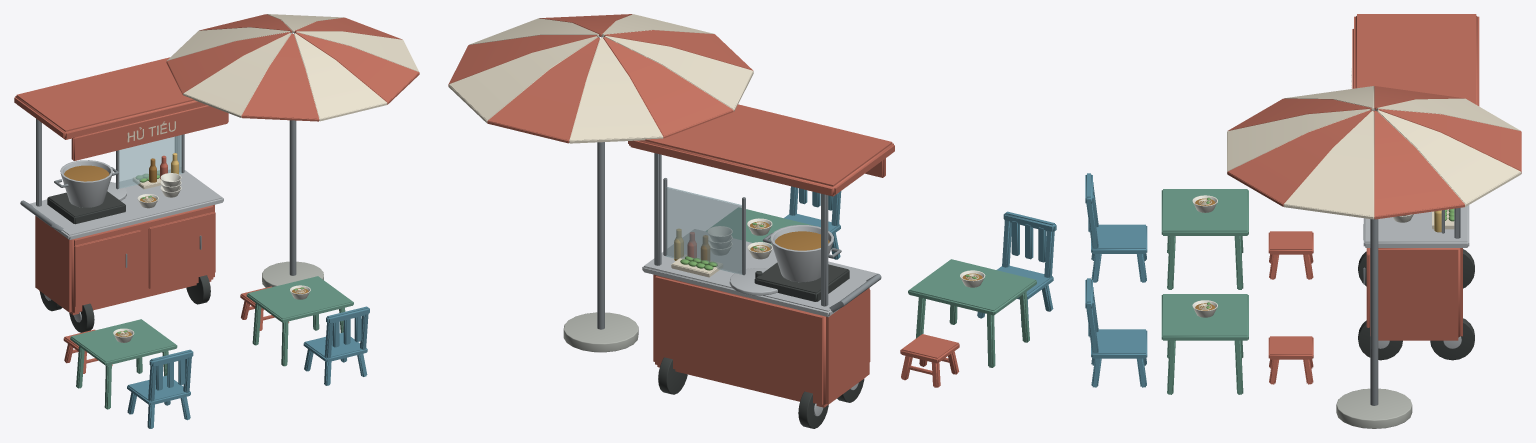
File: HuTieuSpace.glb
3 views of the same model, side by side, from view 1: azimuth 30°, elevation 25°; view 2: azimuth 150°, elevation 25°; view 3: azimuth 270°, elevation 25° (orthographic). The views are drawn at different scales.
Visible parts, largest first — view 1: ST_HuTieuCart_ST_red.001, ST_StreetUmbrella_ST_red.001, ST_StreetUmbrella_ST_cream.001, ST_HuTieuCart_ST_steel.001, ST_PlasticTableLow_ST_plastic_green.001, ST_PlasticTableLow_ST_plastic_green.002, ST_PlasticChairLow_ST_plastic_blue.002, ST_PlasticChairLow_ST_plastic_blue.001, ST_HuTieuCart_ST_black.001, ST_Prep_Glass.001, ST_HuTieuCart_PBK_Indochine_metal.001, ST_StreetUmbrella_PBK_Indochine_metal.001 (+6 smaller); view 2: ST_HuTieuCart_ST_red.001, ST_StreetUmbrella_ST_cream.001, ST_StreetUmbrella_ST_red.001, ST_HuTieuCart_ST_steel.001, ST_Prep_Glass.001, ST_PlasticTableLow_ST_plastic_green.001, ST_HuTieuCart_ST_black.001, ST_HuTieuCart_PBK_Indochine_metal.001, ST_PlasticChairLow_ST_plastic_blue.001, ST_Umbrella_Base.001, ST_PlasticStoolLow_ST_plastic_red.001, ST_StreetUmbrella_PBK_Indochine_metal.001 (+4 smaller); view 3: ST_HuTieuCart_ST_red.001, ST_StreetUmbrella_ST_cream.001, ST_StreetUmbrella_ST_red.001, ST_PlasticTableLow_ST_plastic_green.002, ST_PlasticTableLow_ST_plastic_green.001, ST_HuTieuCart_ST_steel.001, ST_PlasticChairLow_ST_plastic_blue.002, ST_PlasticChairLow_ST_plastic_blue.001, ST_Umbrella_Base.001, ST_HuTieuCart_ST_black.001, ST_StreetUmbrella_PBK_Indochine_metal.001, ST_PlasticStoolLow_ST_plastic_red.001 (+2 smaller).
Part boxes in pixels (x1,y1,x2,y2): ST_HuTieuCart_ST_red.001: (14,57,228,315); ST_StreetUmbrella_ST_red.001: (166,14,419,121); ST_StreetUmbrella_ST_cream.001: (166,14,419,121); ST_HuTieuCart_ST_steel.001: (29,160,223,322); ST_PlasticTableLow_ST_plastic_green.001: (70,319,177,409); ST_PlasticTableLow_ST_plastic_green.002: (246,276,353,366); ST_PlasticChairLow_ST_plastic_blue.002: (303,306,369,385); ST_PlasticChairLow_ST_plastic_blue.001: (127,349,193,428); ST_HuTieuCart_ST_black.001: (39,191,210,332); ST_Prep_Glass.001: (119,135,182,188); ST_HuTieuCart_PBK_Indochine_metal.001: (20,119,201,267); ST_StreetUmbrella_PBK_Indochine_metal.001: (289,32,296,275); ST_HuTieuCart_ST_red.001: (628,104,894,407); ST_StreetUmbrella_ST_cream.001: (448,14,753,143); ST_StreetUmbrella_ST_red.001: (448,14,753,143); ST_HuTieuCart_ST_steel.001: (642,225,878,416); ST_Prep_Glass.001: (665,187,743,275); ST_PlasticTableLow_ST_plastic_green.001: (908,259,1036,367); ST_HuTieuCart_ST_black.001: (658,262,864,428); ST_HuTieuCart_PBK_Indochine_metal.001: (654,153,881,312); ST_PlasticChairLow_ST_plastic_blue.001: (977,211,1056,326); ST_Umbrella_Base.001: (563,312,638,352); ST_PlasticStoolLow_ST_plastic_red.001: (900,334,959,387); ST_StreetUmbrella_PBK_Indochine_metal.001: (597,36,604,329); ST_HuTieuCart_ST_red.001: (1352,14,1479,340); ST_StreetUmbrella_ST_cream.001: (1227,86,1521,219); ST_StreetUmbrella_ST_red.001: (1227,86,1521,219); ST_PlasticTableLow_ST_plastic_green.002: (1161,294,1248,394); ST_PlasticTableLow_ST_plastic_green.001: (1161,189,1248,289); ST_HuTieuCart_ST_steel.001: (1363,205,1469,348); ST_PlasticChairLow_ST_plastic_blue.002: (1085,278,1147,387); ST_PlasticChairLow_ST_plastic_blue.001: (1085,173,1147,282); ST_Umbrella_Base.001: (1336,388,1412,428); ST_HuTieuCart_ST_black.001: (1358,249,1474,360); ST_StreetUmbrella_PBK_Indochine_metal.001: (1370,109,1378,405); ST_PlasticStoolLow_ST_plastic_red.001: (1268,231,1313,279).
Size of the model in its own units: 3.84 by 2.38 by 3.1.
